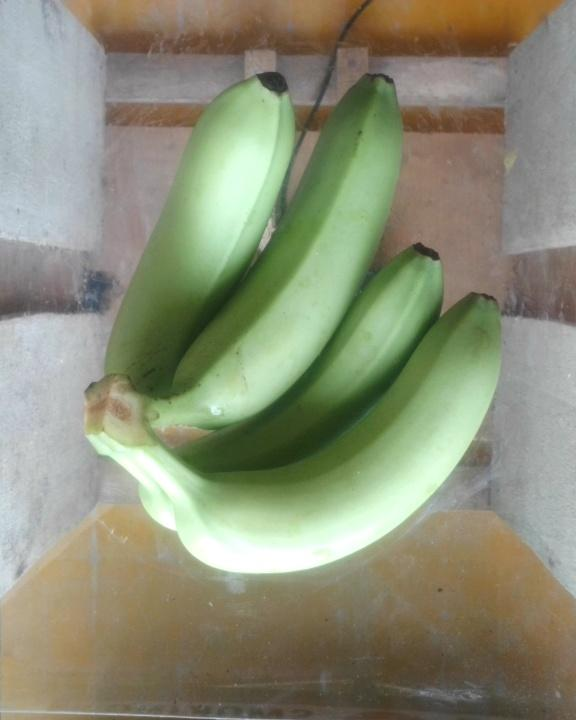SPOT: (78, 67, 507, 576)
